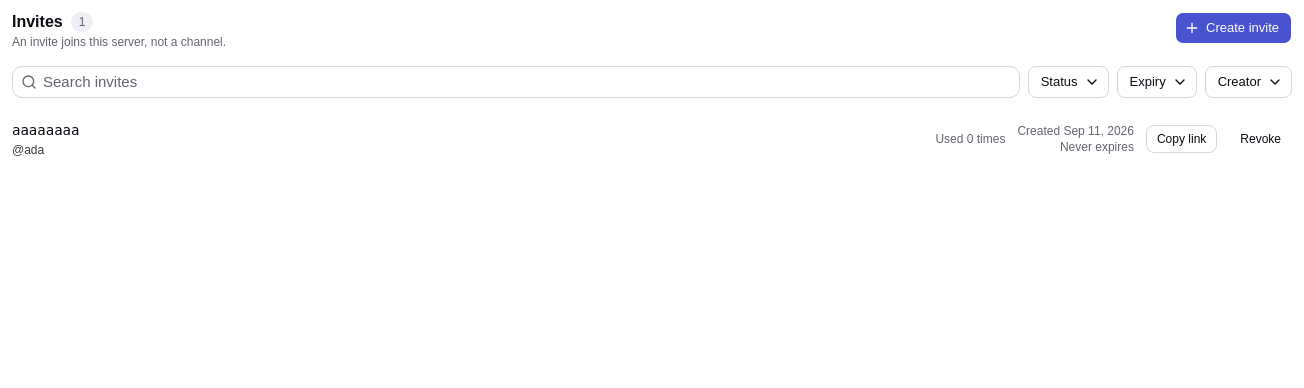
it: InvitesPage › separates a filtered miss from an empty server
Check: the text "aaaaaaaa" is shown, box [12,122,79,138]
Type "zzzz" into the dropdown named "Search invites by code or creator @username" at point(528, 82), box [41,67,1015,97]
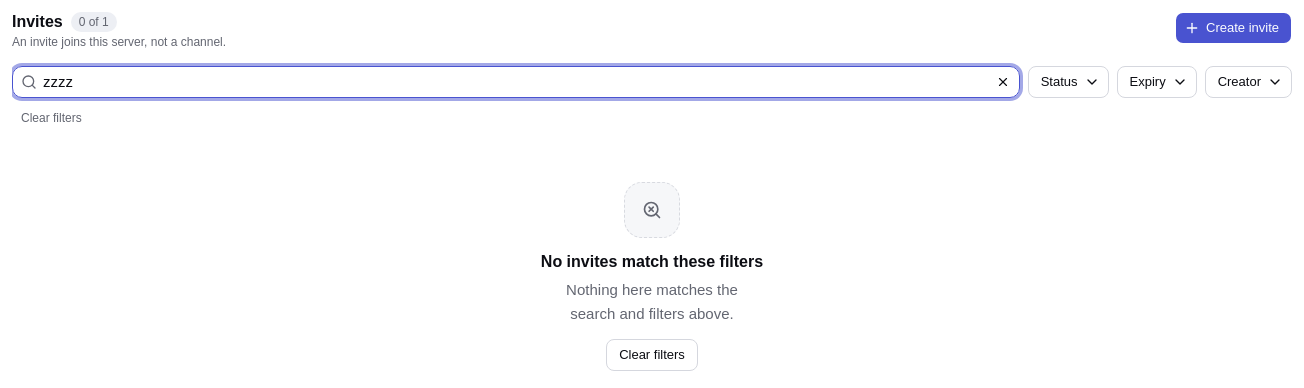
Check: the text "No invites match these filters" is shown, box [541,253,763,270]
Check: the text "No open invites" is gone
